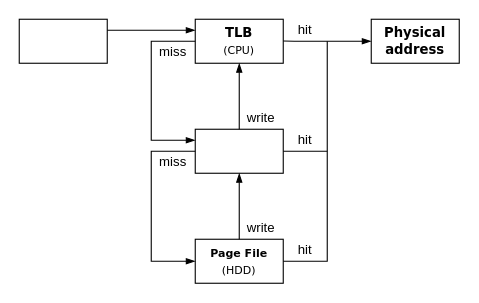
Some shapes in this 479 by 303 pixel diagram are drawn without their labels. The shapes that lost their labels are listed below. From the top down, each one's centre as x and y in pixels, then its label:
point 62,40: Virtual address
point 238,150: Page Table (RAM)
